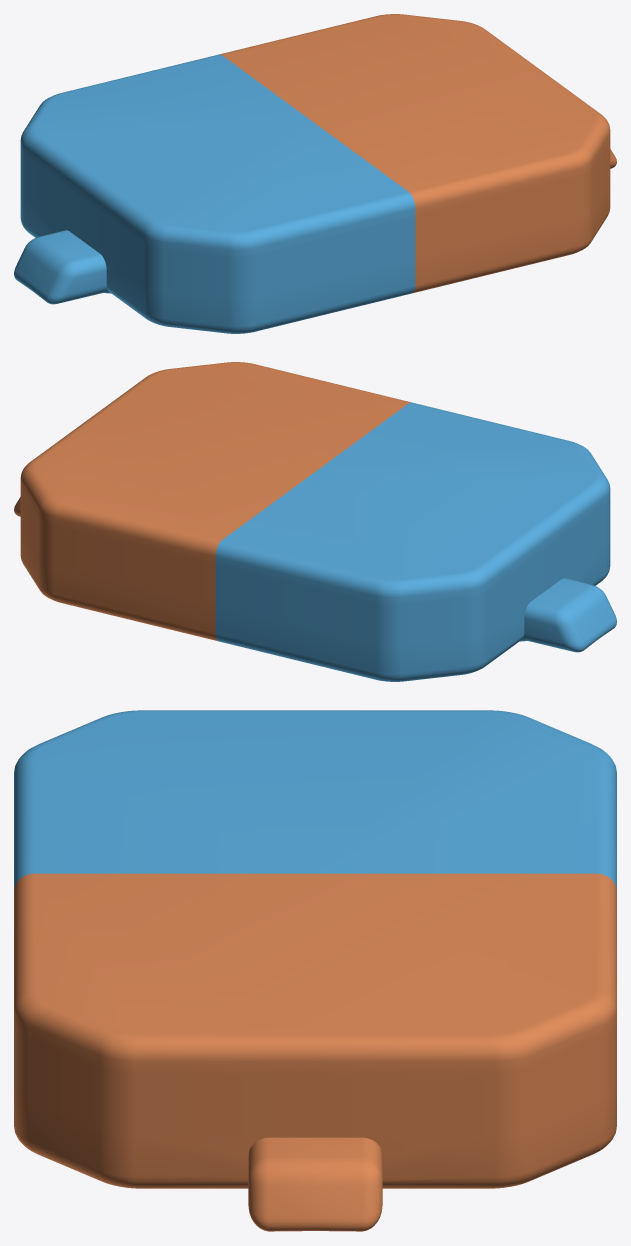
Rendered from losers_field.gltf.
3 views of the same model, one above another, from view 1: azimuth 30°, elevation 25°; view 2: azimuth 150°, elevation 25°; view 3: azimuth 270°, elevation 25° (orthographic). The views are drawn at different scales.
Parts seen in each view (by area): view 1: losers_field; view 2: losers_field; view 3: losers_field.
Part boxes in pixels (x1,y1,x2,y2): losers_field: (14, 14, 616, 333); losers_field: (14, 362, 616, 681); losers_field: (14, 710, 616, 1231).
Size of the model in its own units: 296 by 50 by 180.
Materials: 1 (1 with a texture image).
